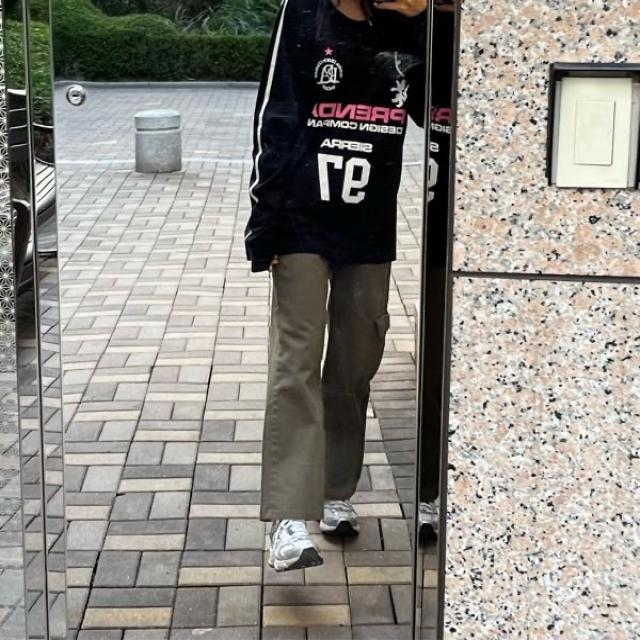cottonpants: (259, 251, 388, 519)
longsleeve: (245, 0, 426, 265)
